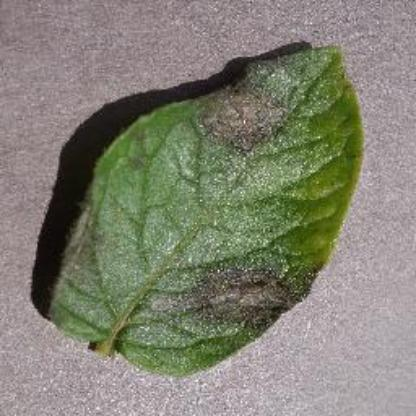Late-Blight: (42, 40, 374, 378)
